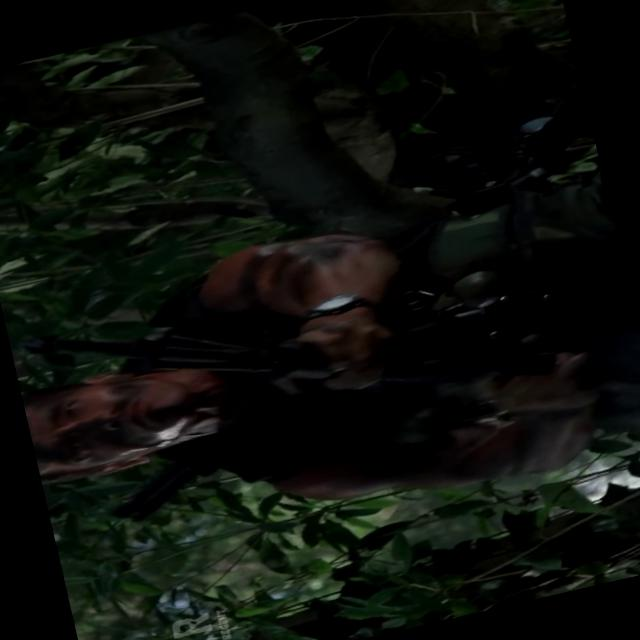long weapon: (36, 187, 631, 542)
